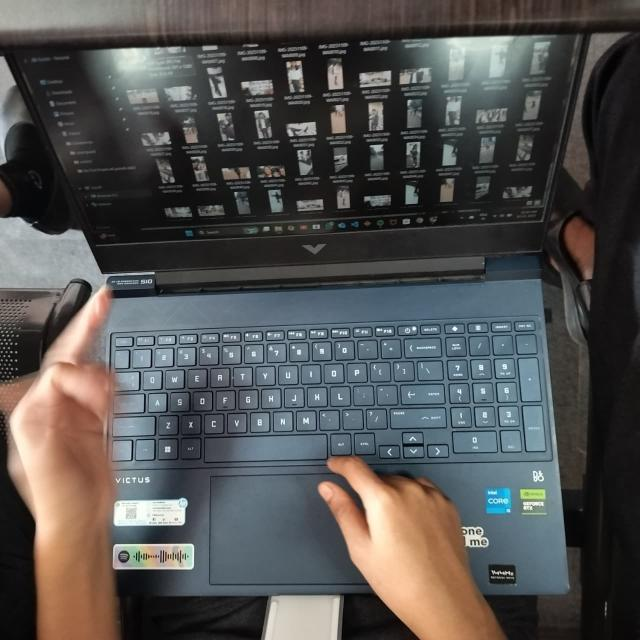laptop: (73, 16, 582, 612)
